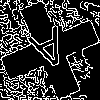A: (25, 25, 75, 81)
